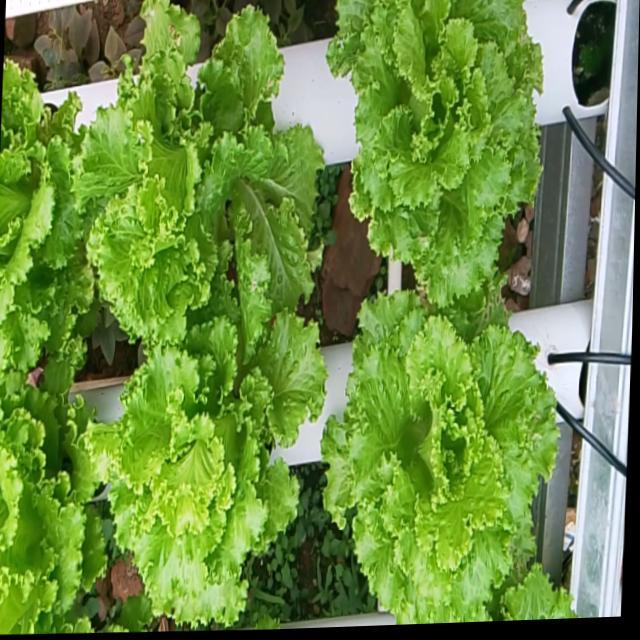Mature: (321, 285, 577, 625), (74, 0, 324, 343), (83, 283, 327, 627), (327, 0, 542, 308), (0, 62, 92, 375), (0, 372, 105, 634)
